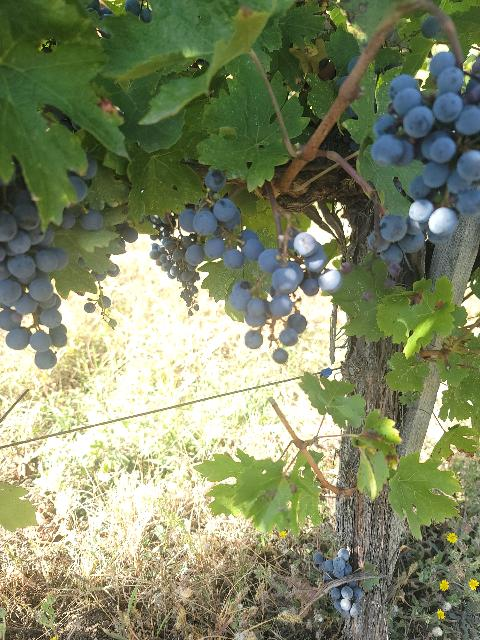grapes: (371, 51, 480, 240), (0, 165, 69, 369), (228, 230, 341, 349), (150, 234, 200, 315)
